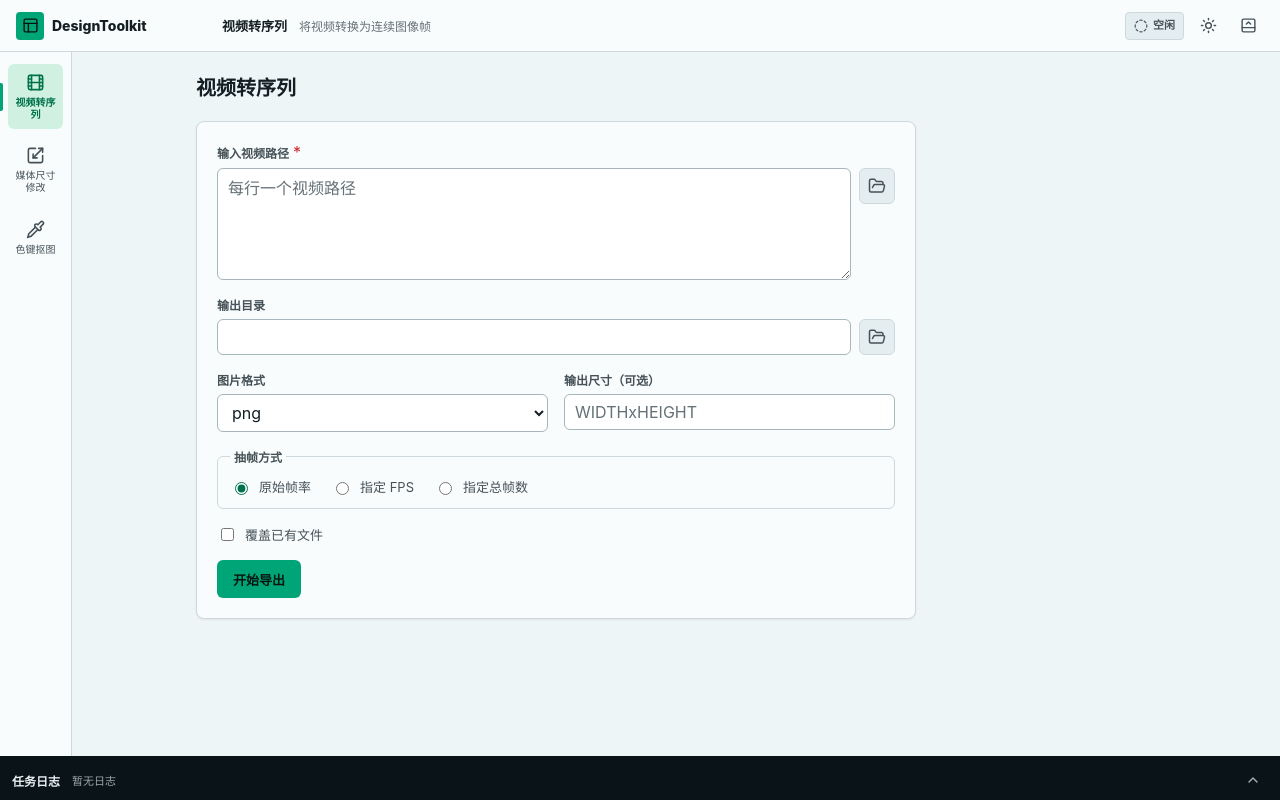
Test: AppShell › closes the theme menu when Tab moves focus away
Step 1. Click the button named "主题设置" → (1208, 26), box [1192,10,1224,42]
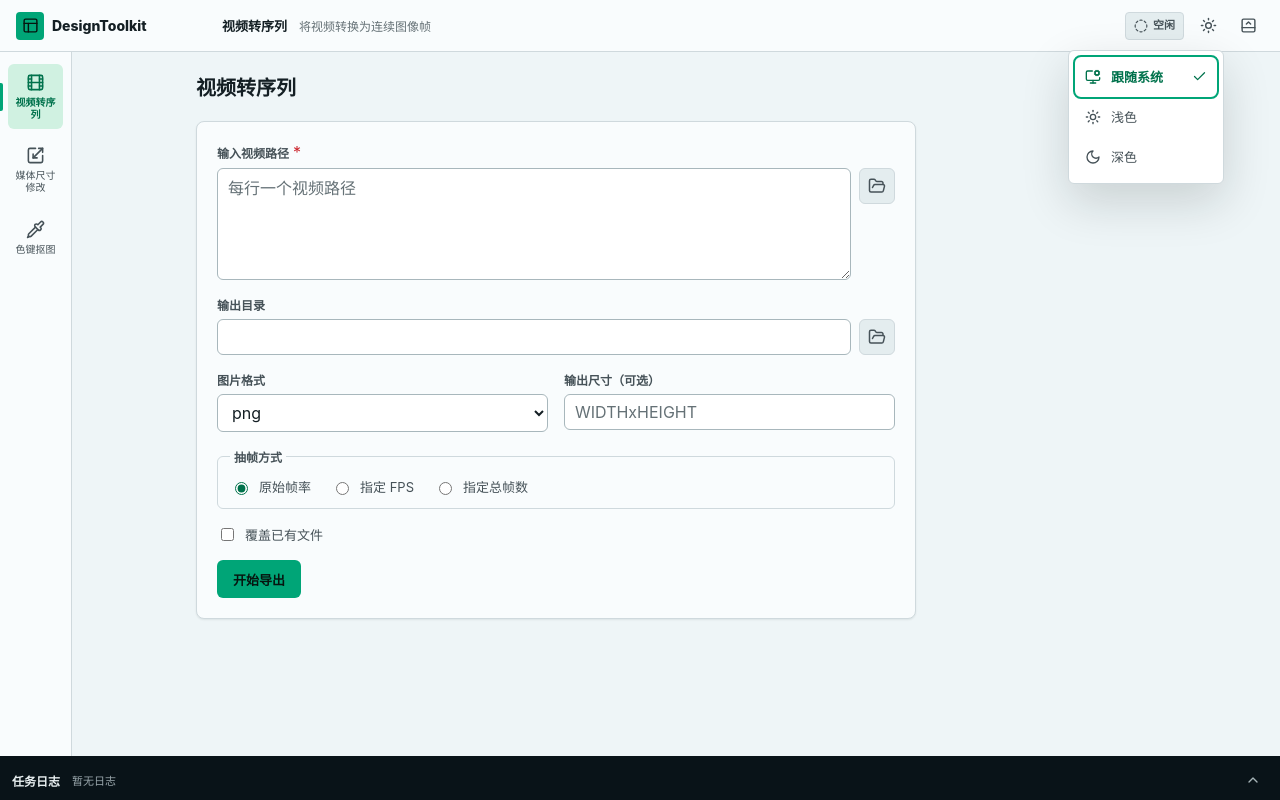
Now the menu named "主题设置" is shown, box [1068,50,1224,184]
Step 2. Press Tab
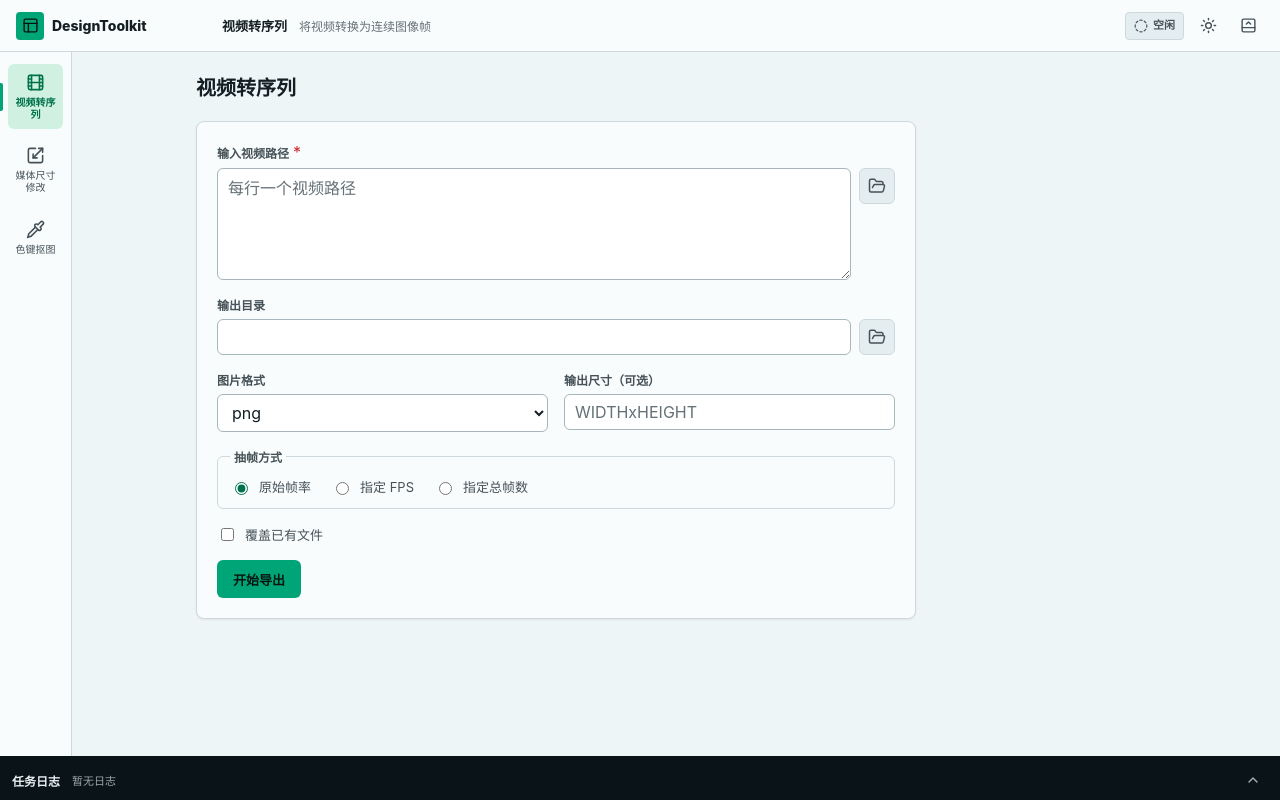
Now the menu "跟随系统 浅色 深色" is gone
